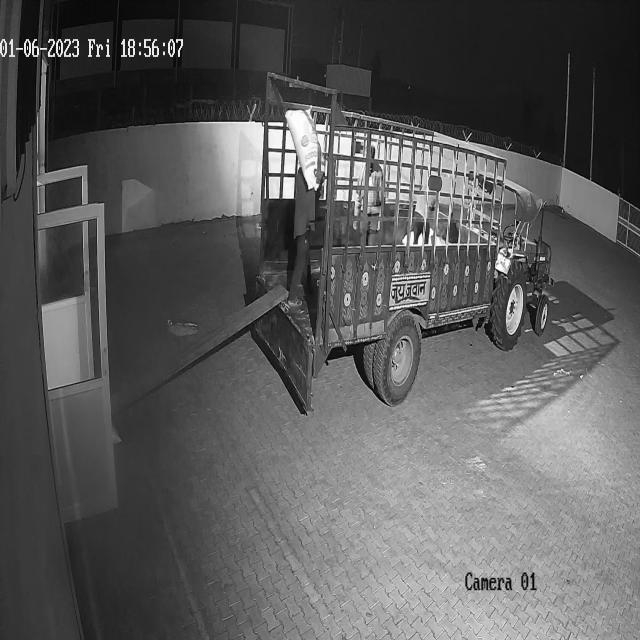sack: (285, 109, 319, 191)
